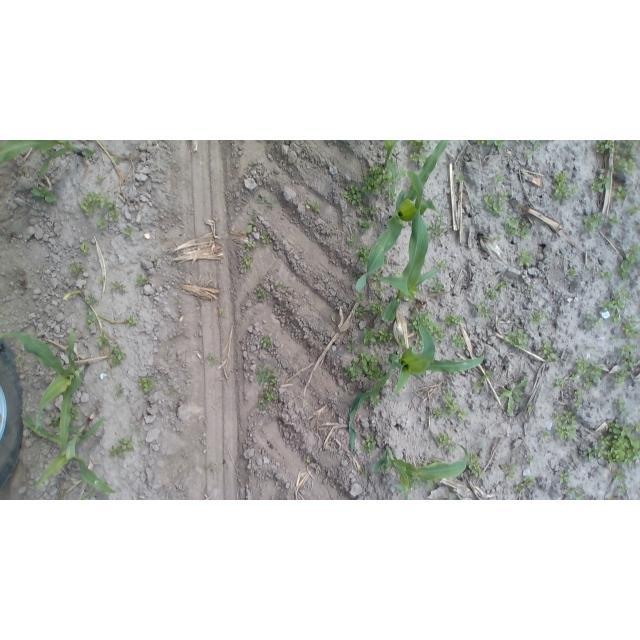Maize: (349, 306, 485, 455), (356, 141, 451, 300), (1, 329, 89, 451), (378, 171, 439, 326), (22, 411, 114, 494), (370, 445, 468, 500), (0, 141, 94, 180), (384, 141, 406, 200), (613, 465, 629, 497), (62, 290, 86, 303)
Weeds: (607, 418, 639, 462), (499, 375, 530, 415), (578, 433, 612, 459), (506, 214, 533, 243), (82, 190, 109, 214), (364, 165, 385, 194), (484, 191, 508, 214), (590, 169, 610, 194), (367, 355, 386, 381), (342, 185, 363, 208), (613, 153, 638, 172), (31, 185, 56, 203), (500, 461, 519, 481), (581, 314, 603, 330), (442, 391, 458, 413), (612, 290, 630, 309), (552, 182, 571, 200), (622, 317, 638, 338), (589, 361, 610, 377), (613, 369, 631, 387), (564, 485, 587, 499), (614, 140, 637, 154), (109, 346, 125, 366), (508, 330, 528, 346), (584, 214, 605, 229), (625, 244, 640, 264), (616, 395, 630, 416), (362, 433, 376, 453), (359, 219, 377, 234), (554, 421, 568, 440), (543, 342, 557, 360), (597, 140, 615, 154), (519, 252, 534, 268), (430, 220, 443, 238), (487, 140, 506, 152), (139, 378, 154, 393), (354, 351, 370, 365), (346, 365, 362, 379), (617, 261, 631, 277), (363, 328, 376, 345), (365, 302, 382, 315), (439, 431, 452, 448), (477, 302, 491, 317), (468, 464, 484, 477), (308, 198, 322, 212), (575, 356, 589, 370), (264, 387, 277, 402), (379, 328, 392, 343), (257, 368, 269, 384), (530, 310, 544, 323), (110, 446, 125, 458), (443, 313, 461, 323), (554, 172, 569, 184), (110, 282, 126, 293), (600, 300, 613, 313), (134, 274, 146, 288), (559, 410, 573, 422), (355, 205, 371, 215), (625, 356, 638, 368), (432, 407, 445, 419), (607, 211, 618, 225), (468, 453, 483, 463), (452, 335, 464, 347), (119, 439, 132, 450), (487, 288, 498, 301), (583, 376, 594, 389), (113, 383, 123, 397), (260, 234, 272, 245), (107, 208, 118, 220), (629, 205, 640, 217), (97, 218, 108, 229), (98, 336, 108, 348), (95, 175, 107, 185), (438, 259, 450, 269), (368, 205, 378, 216), (523, 477, 534, 487), (435, 332, 445, 343), (622, 345, 632, 356), (600, 271, 612, 280), (456, 412, 468, 421), (72, 407, 80, 420), (247, 221, 255, 234), (83, 488, 93, 498), (125, 317, 135, 327), (425, 313, 435, 323), (421, 141, 430, 152), (358, 249, 366, 261), (617, 186, 625, 198), (71, 264, 80, 274), (256, 289, 266, 298), (610, 312, 620, 321), (569, 371, 578, 381), (86, 295, 97, 303), (80, 245, 88, 256), (258, 399, 266, 410), (123, 227, 134, 235), (498, 278, 506, 289), (573, 398, 582, 407), (555, 377, 564, 386), (50, 415, 58, 425), (370, 398, 380, 406), (418, 151, 426, 161), (560, 473, 568, 483), (408, 315, 416, 325), (412, 152, 419, 163), (88, 314, 96, 323), (261, 338, 270, 346), (346, 344, 354, 353), (355, 307, 363, 316), (541, 429, 550, 437), (524, 150, 532, 159), (577, 368, 587, 375), (474, 140, 485, 146), (397, 338, 405, 346), (496, 173, 504, 181), (246, 242, 255, 249), (304, 454, 311, 462), (566, 269, 574, 276), (459, 174, 466, 182), (245, 258, 251, 267), (360, 465, 366, 474), (347, 237, 353, 246), (271, 378, 278, 385), (109, 202, 116, 209), (528, 456, 535, 463), (99, 275, 106, 281), (111, 158, 119, 163), (380, 286, 387, 291), (375, 291, 381, 296), (524, 286, 530, 290)
